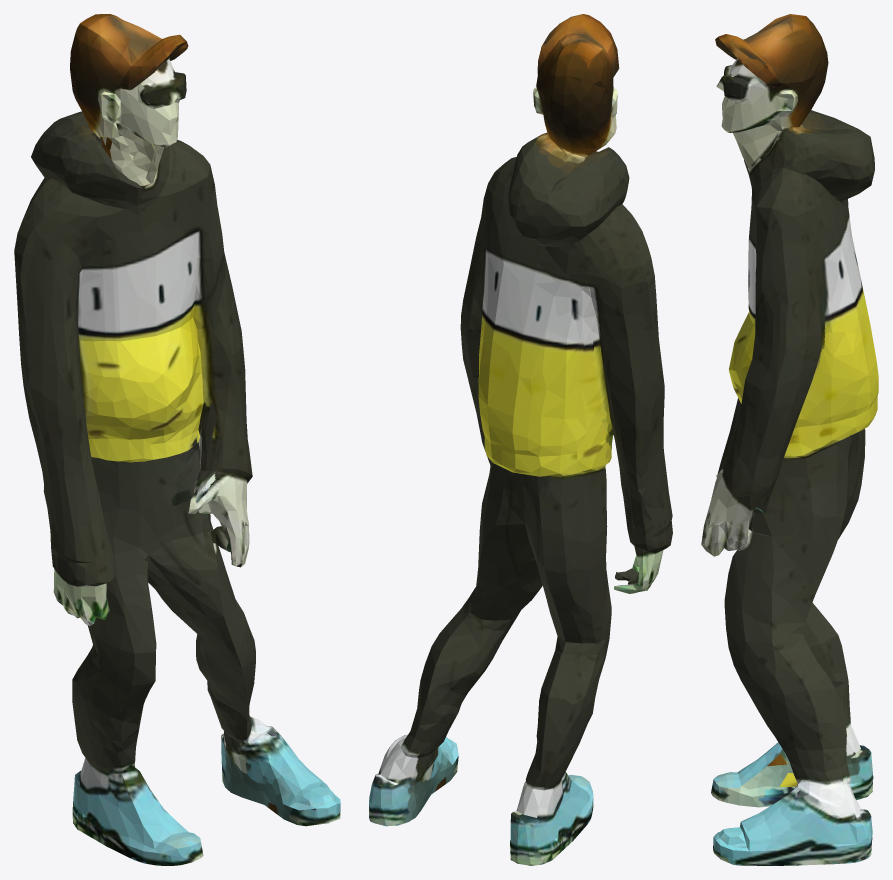
The model's file is boysunglass.glb.
3 views of the same model, side by side, from view 1: azimuth 30°, elevation 25°; view 2: azimuth 150°, elevation 25°; view 3: azimuth 270°, elevation 25° (orthographic). The views are drawn at different scales.
Visible parts, largest first — view 1: geometry_0; view 2: geometry_0; view 3: geometry_0.
Part boxes in pixels (bbox=[...]): geometry_0: bbox=[14, 14, 340, 865]; geometry_0: bbox=[369, 14, 672, 865]; geometry_0: bbox=[701, 14, 878, 865].
Bounding box in the file's own units: 0.3575 × 0.9972 × 0.209.
Materials: 1 (1 with a texture image).
